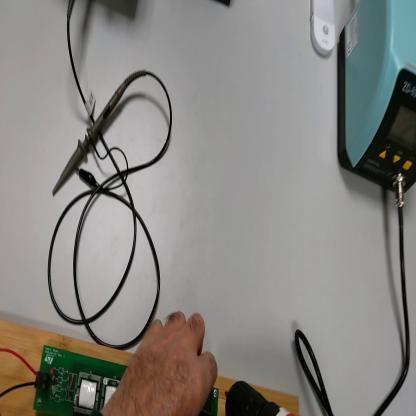electric screwdriver: (224, 382, 297, 414)
hand: (102, 311, 219, 414)
high voltage board: (1, 346, 219, 416)
oscilloscope probe tip: (55, 79, 129, 197)
welder station: (337, 2, 416, 195)
working area: (2, 325, 299, 416)
